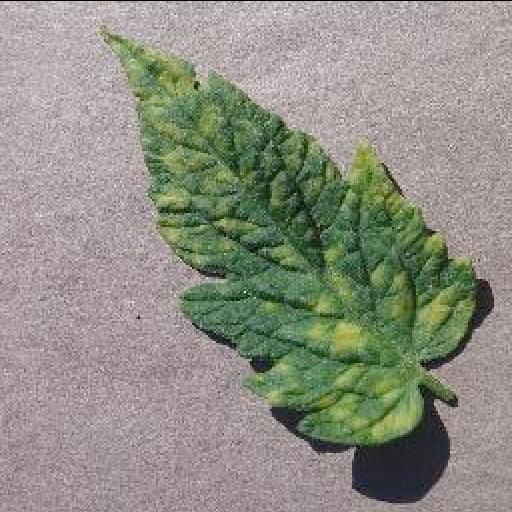disease_tomato: (102, 24, 476, 438)
